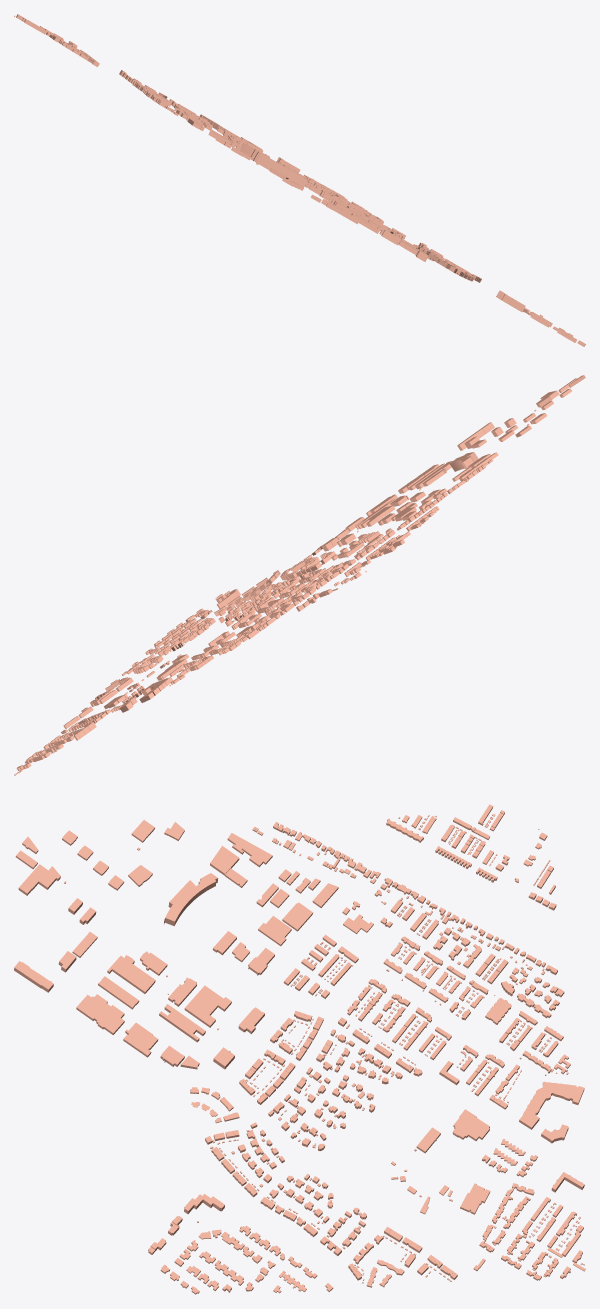
The picture shows the model from 3 angles, top to bottom: view 1: azimuth 30°, elevation 25°; view 2: azimuth 150°, elevation 25°; view 3: azimuth 270°, elevation 25°; orthographic projection. The views are drawn at different scales.
Bounding box in the file's own units: 1032 × 761 × 1305.
